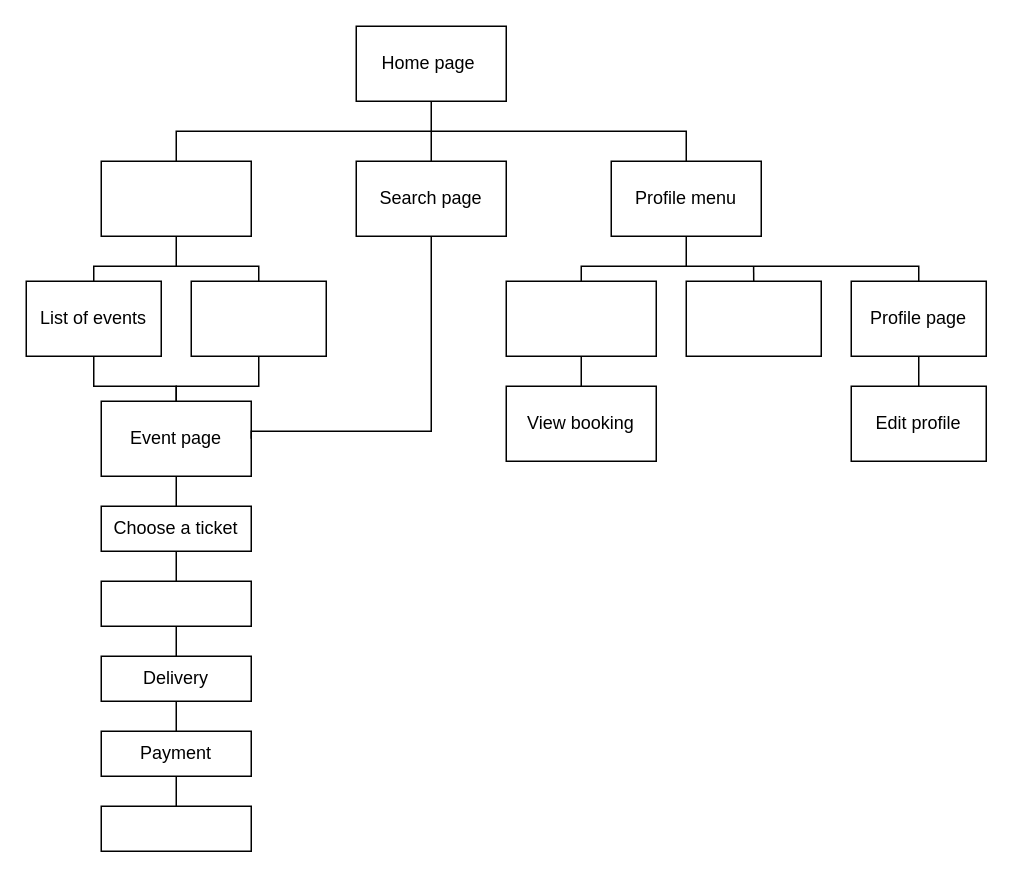
Image size: 1013x878. Some labels were removed from this diagram. Here are the shapes that lost their labels. From the top down, the centre of each, then its label:
[175,198]: Navigation bar
[258,318]: Map of events
[580,318]: My tickets page
[753,318]: Logout
[175,603]: Ticketholders
[175,828]: Confirmation
